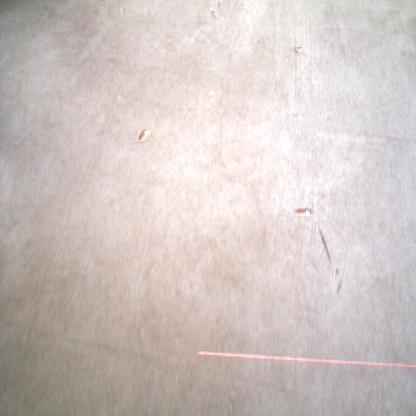dirty: (138, 129, 152, 142), (294, 207, 312, 216), (293, 46, 302, 56), (210, 11, 218, 18)
mark: (315, 222, 331, 266), (334, 266, 343, 295), (273, 79, 278, 93), (216, 1, 223, 8), (121, 7, 126, 16)
